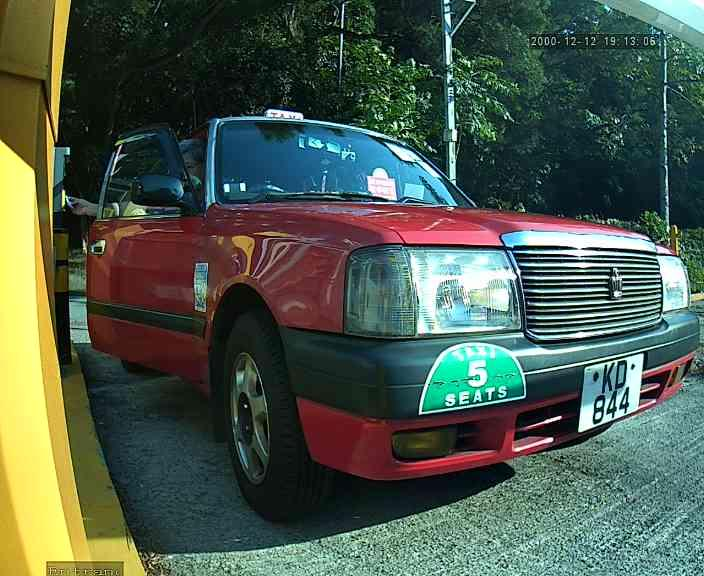Car: (40, 37, 704, 518)
License Plate: (570, 348, 650, 437)
